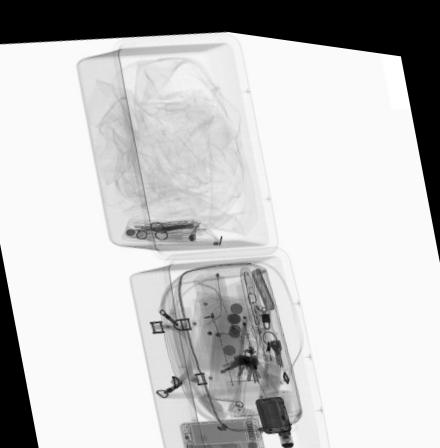Scissors: (150, 215, 196, 235)
